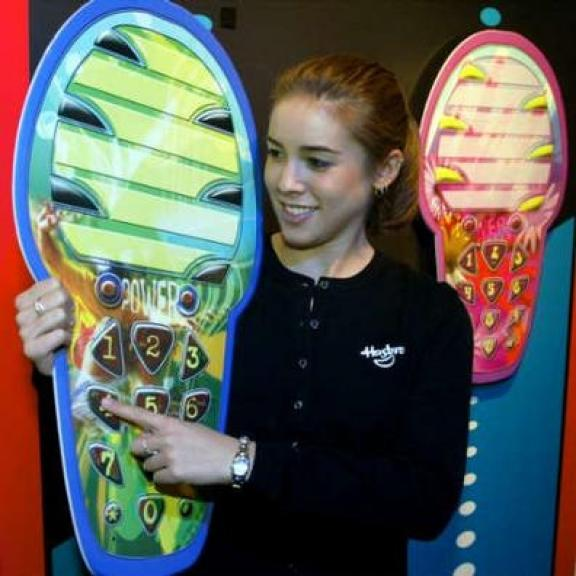face: (259, 93, 403, 252)
